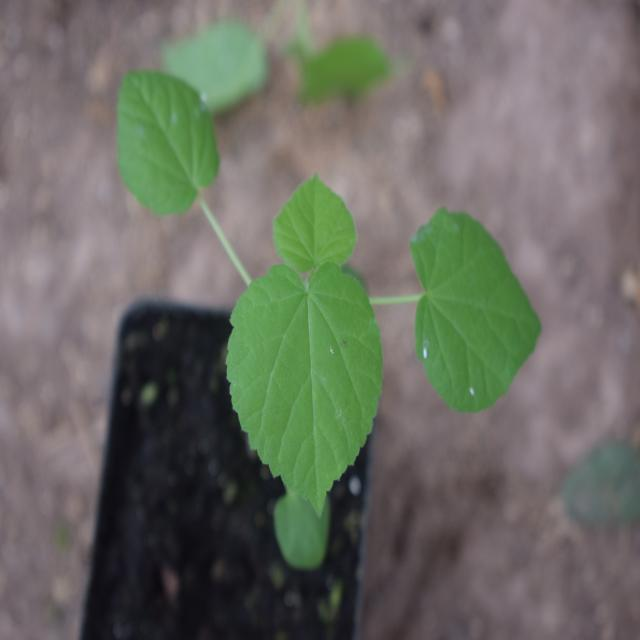abutilon theophrasti: (120, 56, 526, 503)
